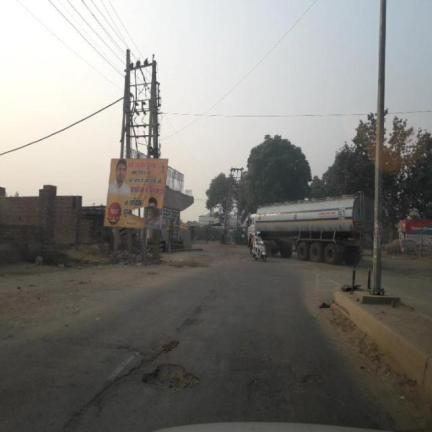Road: (0, 246, 417, 431)
